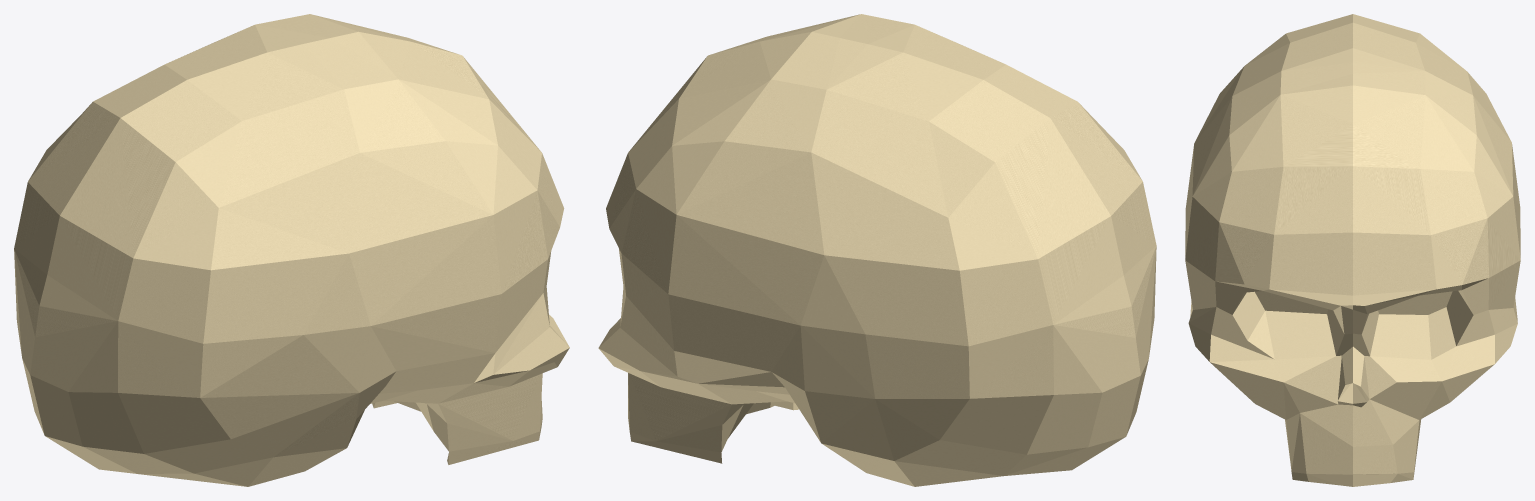
Rendered from skull.fbx.
The picture shows the model from 3 angles, left to right: view 1: azimuth 30°, elevation 25°; view 2: azimuth 150°, elevation 25°; view 3: azimuth 270°, elevation 25°; orthographic projection. The views are drawn at different scales.
Parts seen in each view (by area): view 1: Roundcube.001; view 2: Roundcube.001; view 3: Roundcube.001.
Part boxes in pixels (x1,y1,x2,y2): Roundcube.001: [14, 14, 569, 486]; Roundcube.001: [598, 14, 1156, 486]; Roundcube.001: [1185, 14, 1520, 486].
Bounding box in the file's own units: 96.41 × 76.79 × 68.62.
Materials: 1 (1 with a texture image).
